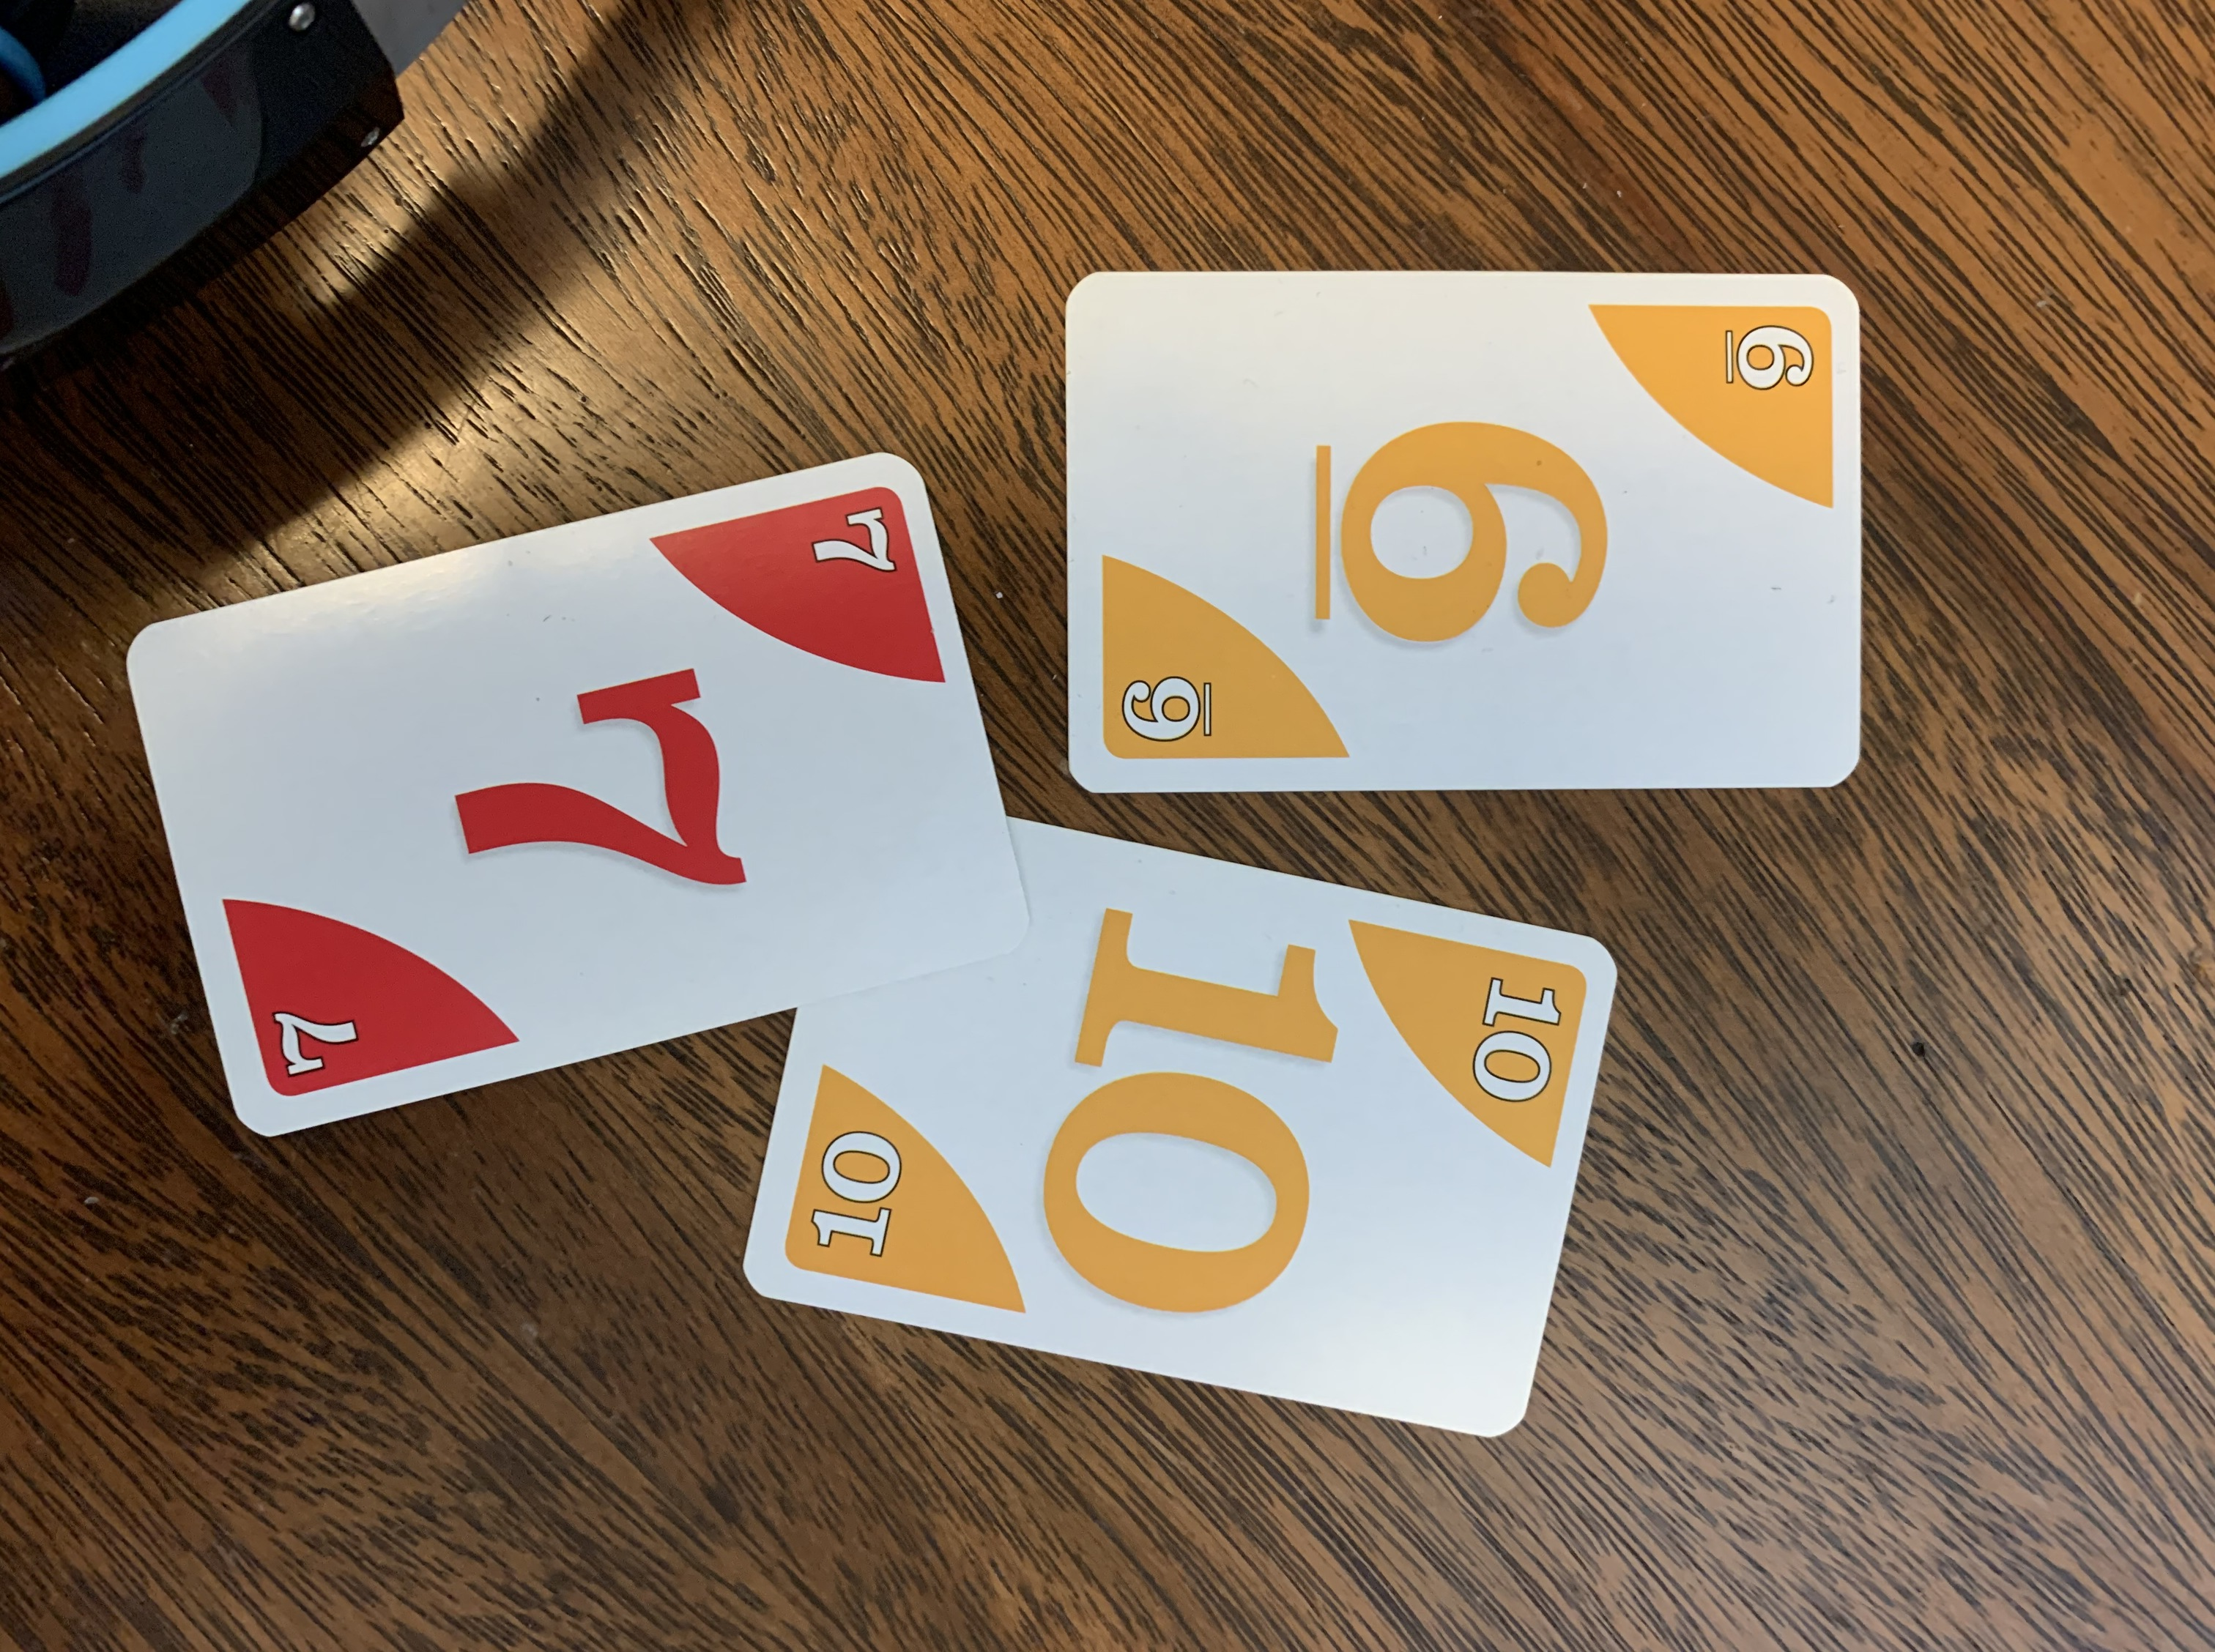seven: (120, 432, 1047, 1128)
six: (1045, 257, 1887, 824)
